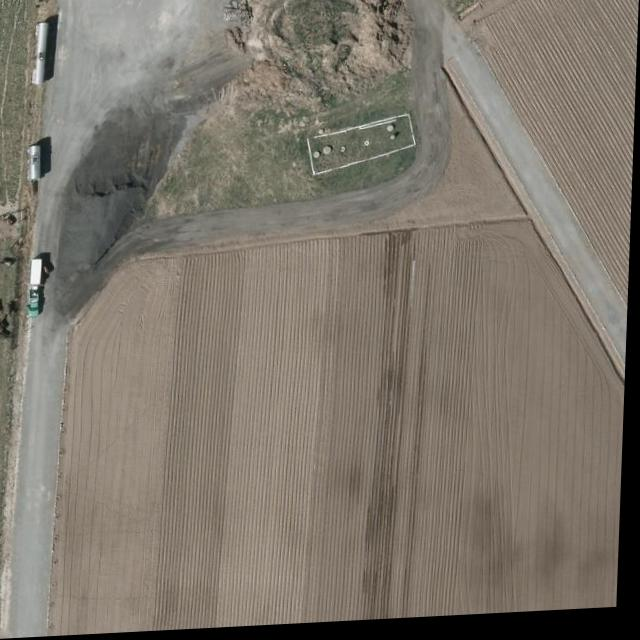vehicle: (29, 292, 45, 318)
